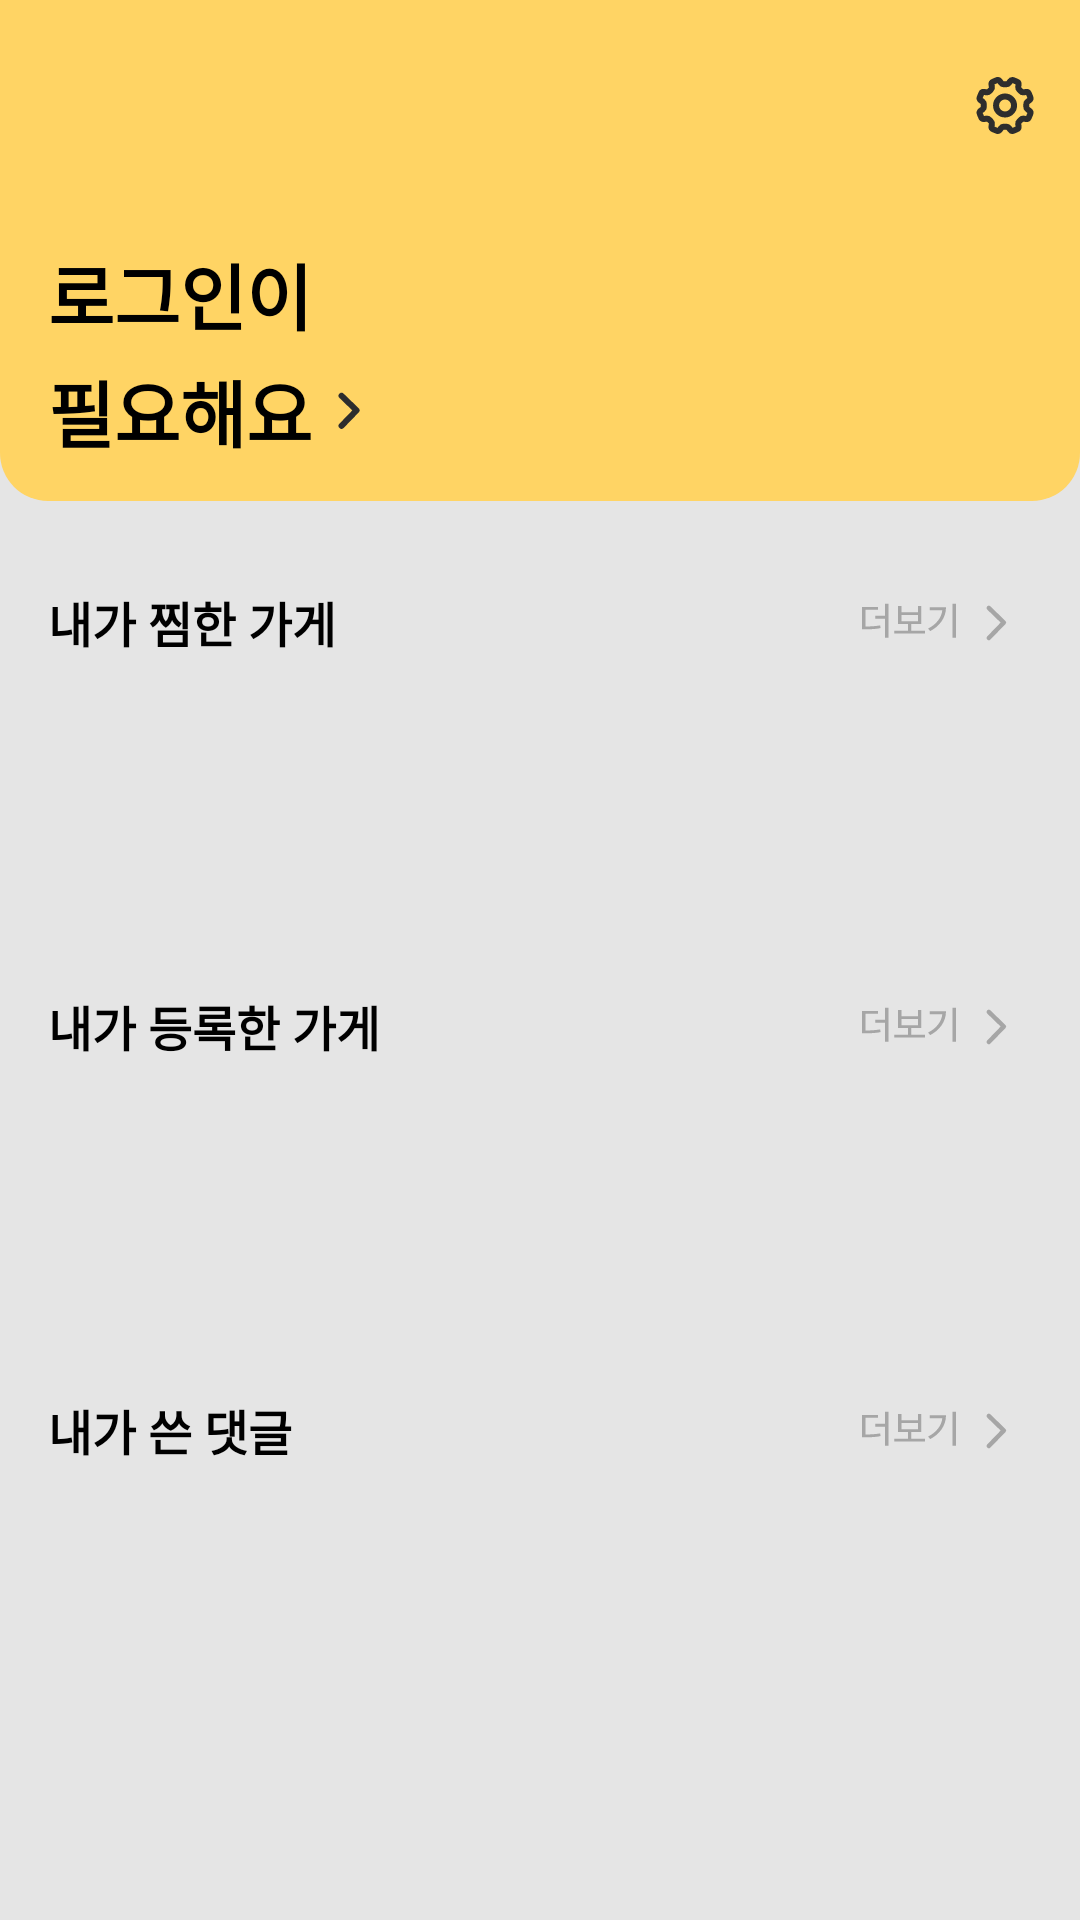

Icon bounding boxes for this 1080*1920 phone screenshot, format (x1, y1, x2, y2):
right arrow: (338, 392, 360, 429)
setting: (976, 77, 1034, 134)
